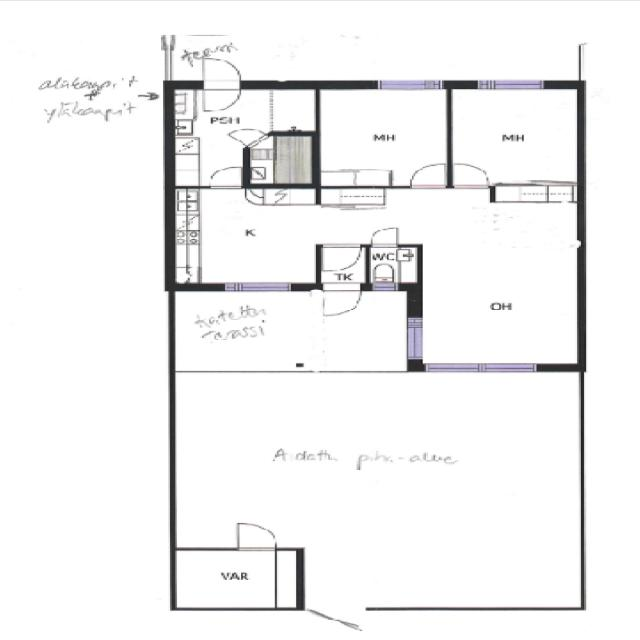door: (307, 607, 365, 640), (204, 80, 241, 112), (204, 58, 241, 89), (324, 283, 361, 314), (229, 122, 271, 148), (324, 244, 362, 270), (239, 525, 276, 551), (455, 164, 489, 189), (412, 164, 446, 189), (212, 166, 242, 188), (372, 228, 397, 247)
